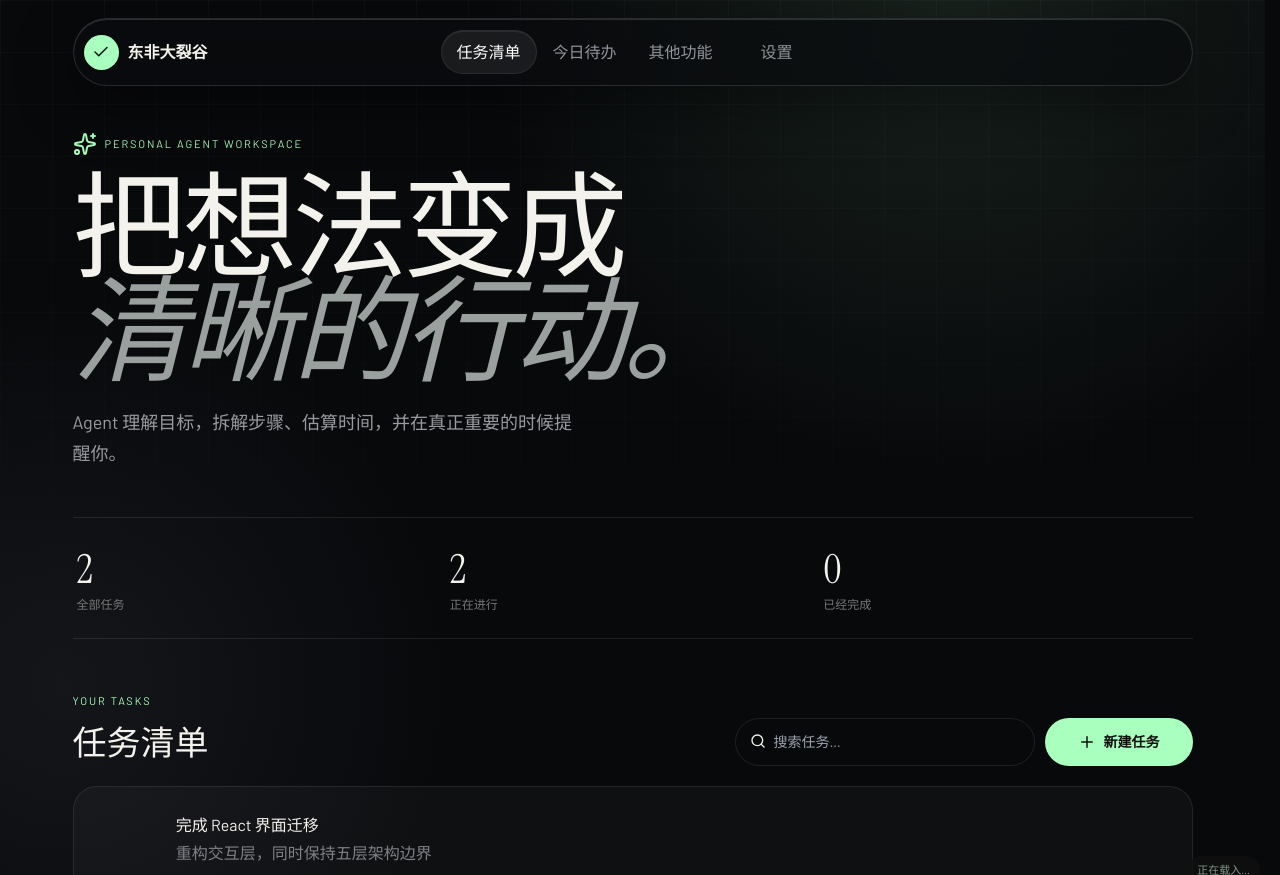
it: application shell › allows double-clicking the brand logo area to edit the site name
The image size is (1280, 875).
Double-click the element with test id "brand-edit-area": (146, 52) [84,34,208,70]
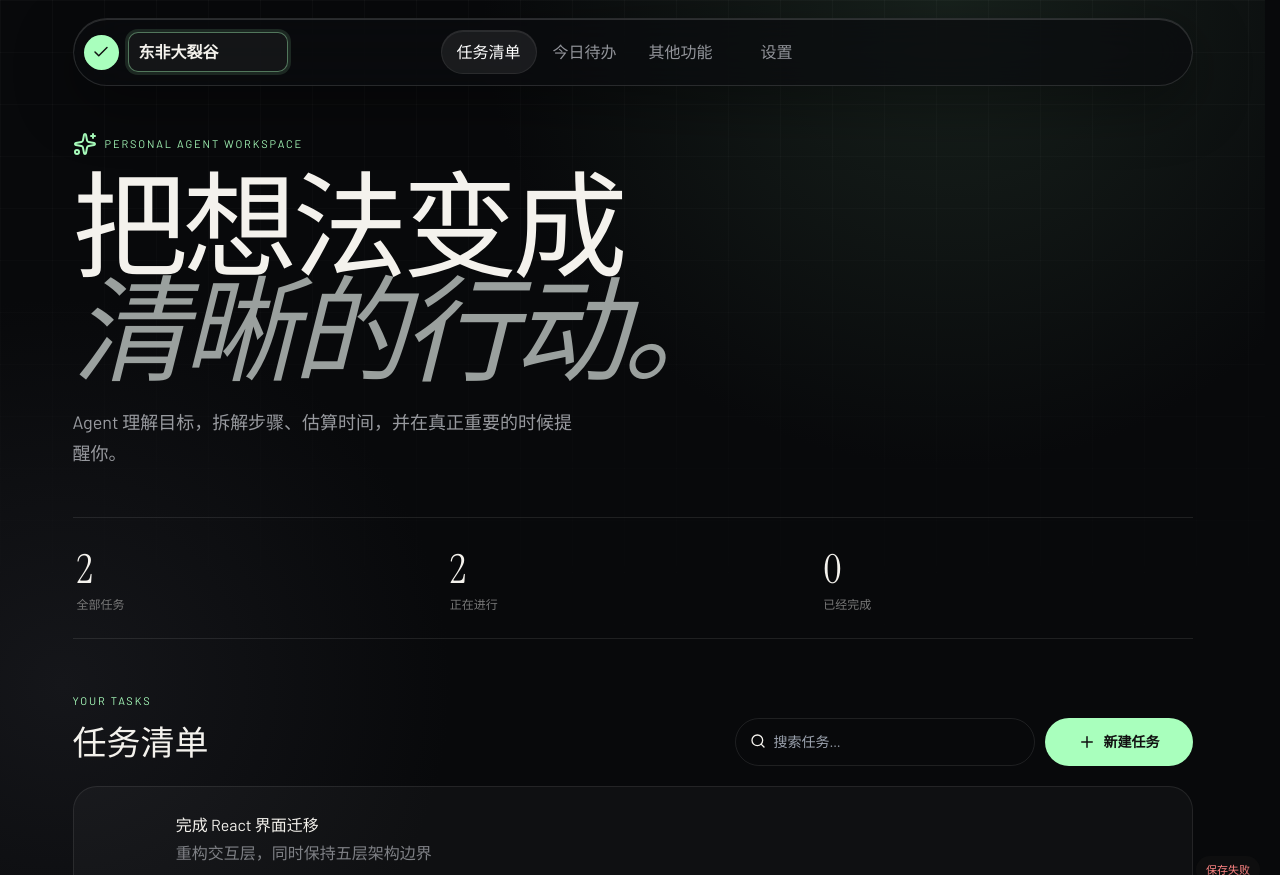
Expected: the field named "网站名称" is shown, [128,32,288,72]
